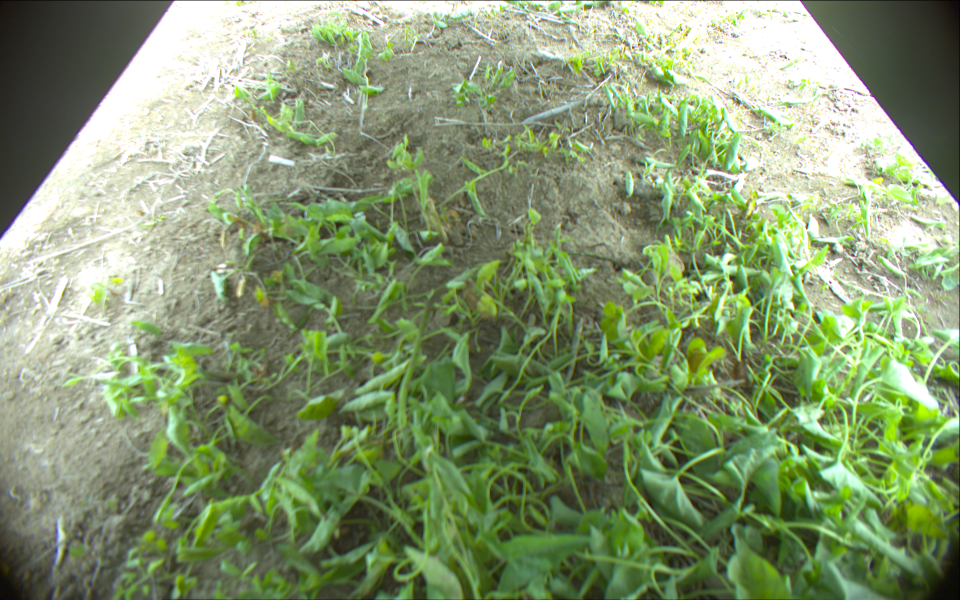aspa: (399, 290, 435, 432)
